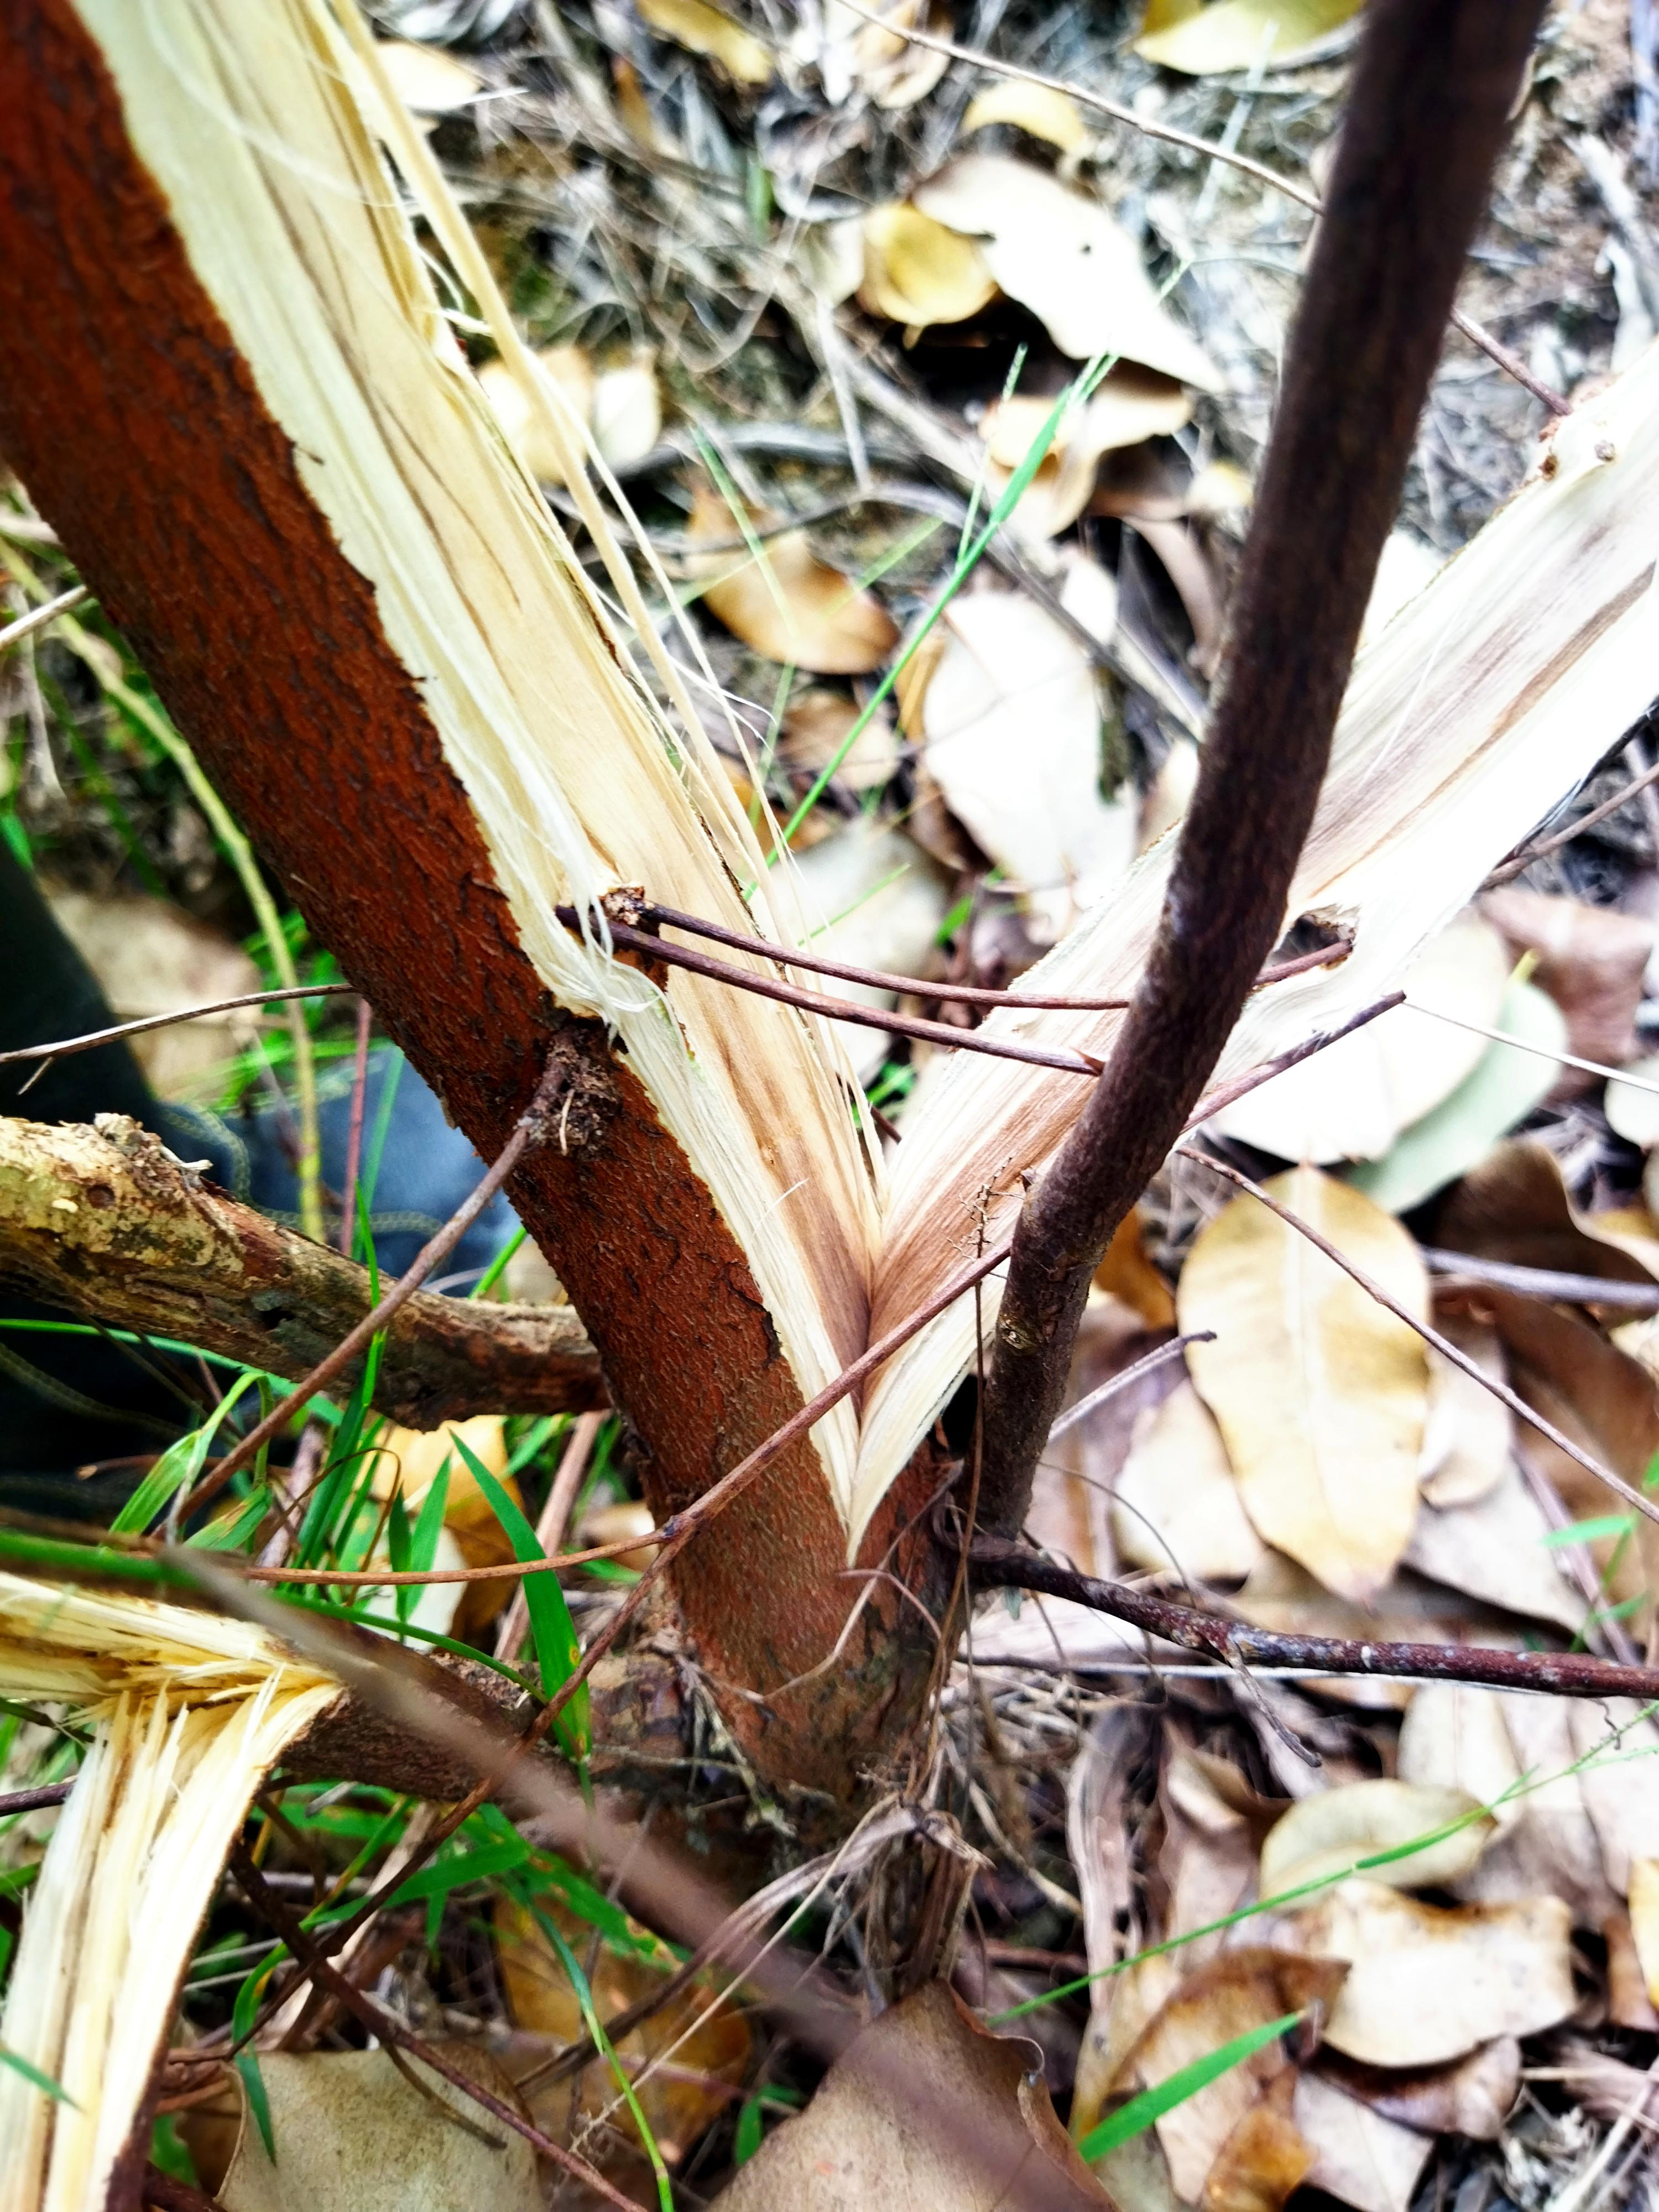Ralstonia: (704, 991, 1094, 1393)
